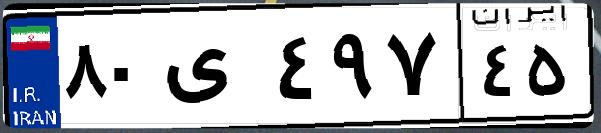0: (110, 28, 158, 98)
4: (270, 28, 330, 110), (475, 38, 525, 113)
5: (525, 38, 570, 115)
7: (385, 28, 445, 110)
8: (57, 26, 110, 100)
9: (330, 28, 385, 110)
ی: (158, 20, 270, 120)
